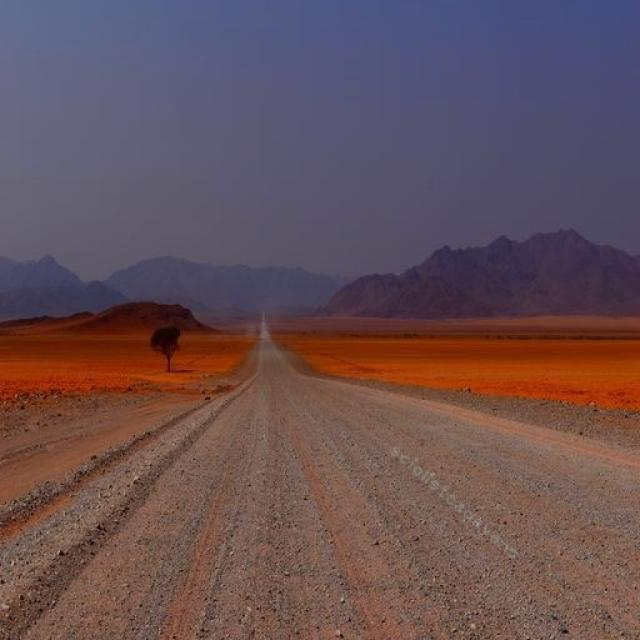watermark: (383, 438, 525, 564)
